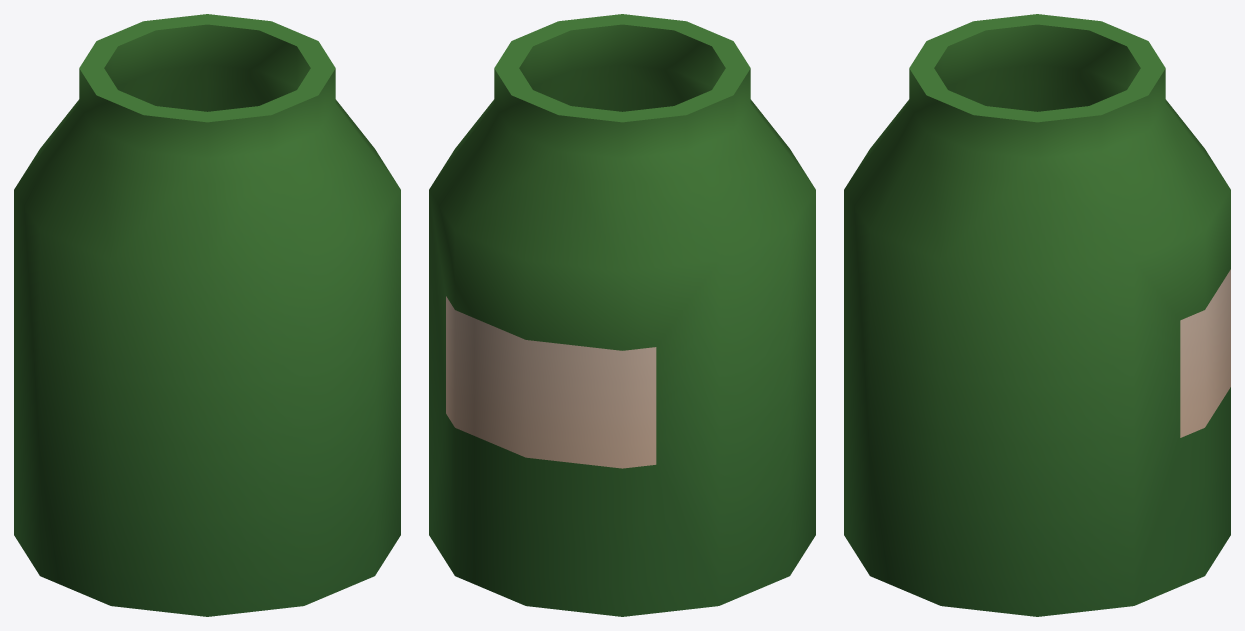
File: JarOpaque3.fbx
The picture shows the model from 3 angles, left to right: view 1: azimuth 30°, elevation 25°; view 2: azimuth 150°, elevation 25°; view 3: azimuth 270°, elevation 25°; orthographic projection.
Parts seen in each view (by area): view 1: JarOpaque3; view 2: JarOpaque3; view 3: JarOpaque3.
Part boxes in pixels (left/top/right/bottom): JarOpaque3: left=14, top=14, right=400, bottom=616; JarOpaque3: left=429, top=14, right=815, bottom=616; JarOpaque3: left=844, top=14, right=1230, bottom=616.
Bounding box in the file's own units: 8.28 × 11.03 × 8.28.
